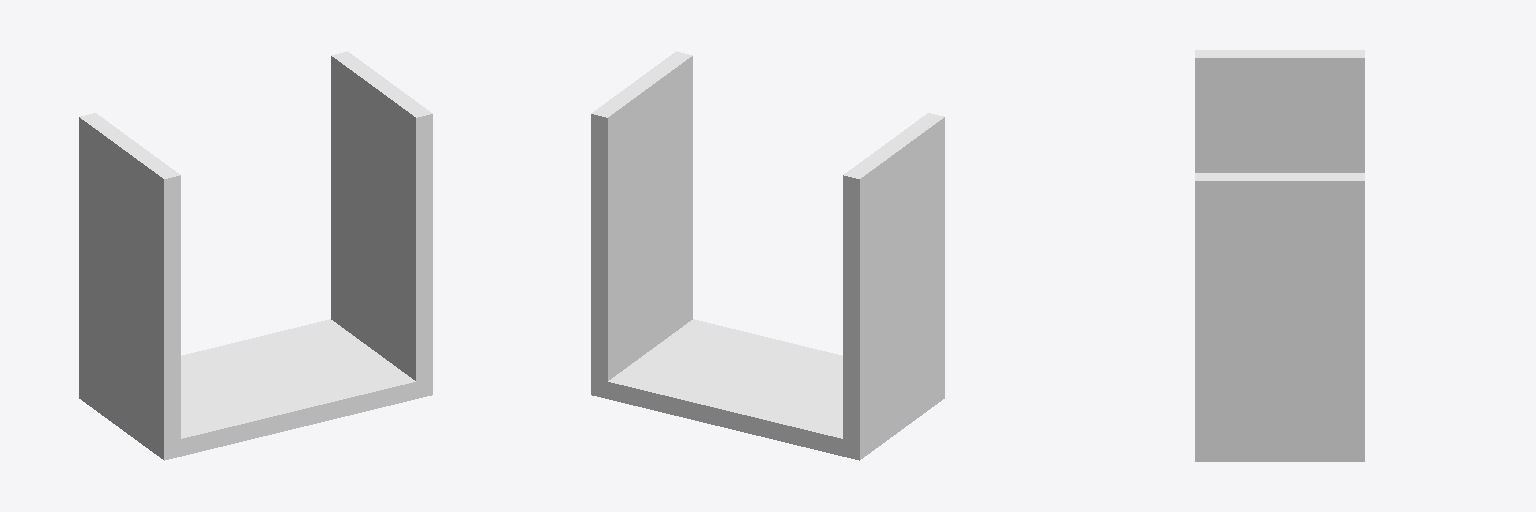
File: Dock.obj
3 views of the same model, side by side, from view 1: azimuth 30°, elevation 25°; view 2: azimuth 150°, elevation 25°; view 3: azimuth 270°, elevation 25° (orthographic).
Bounding box in the file's own units: 32 × 32 × 17.6.